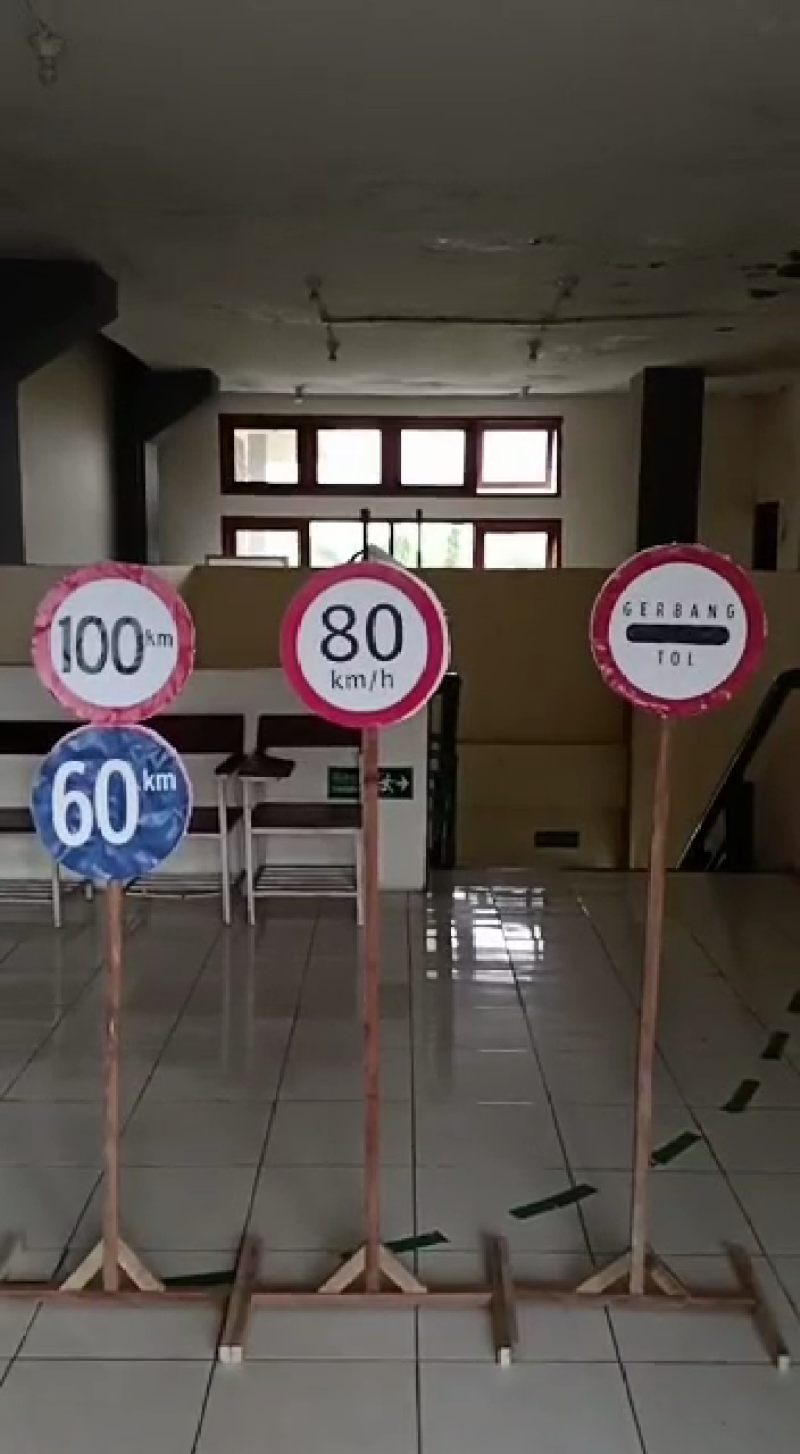batas maksimal 100kmperjam minimal 60kmperjam: (29, 555, 203, 896)
batas maksimal 80kmperjam: (270, 537, 479, 751)
gerbang tol: (587, 542, 755, 714)
